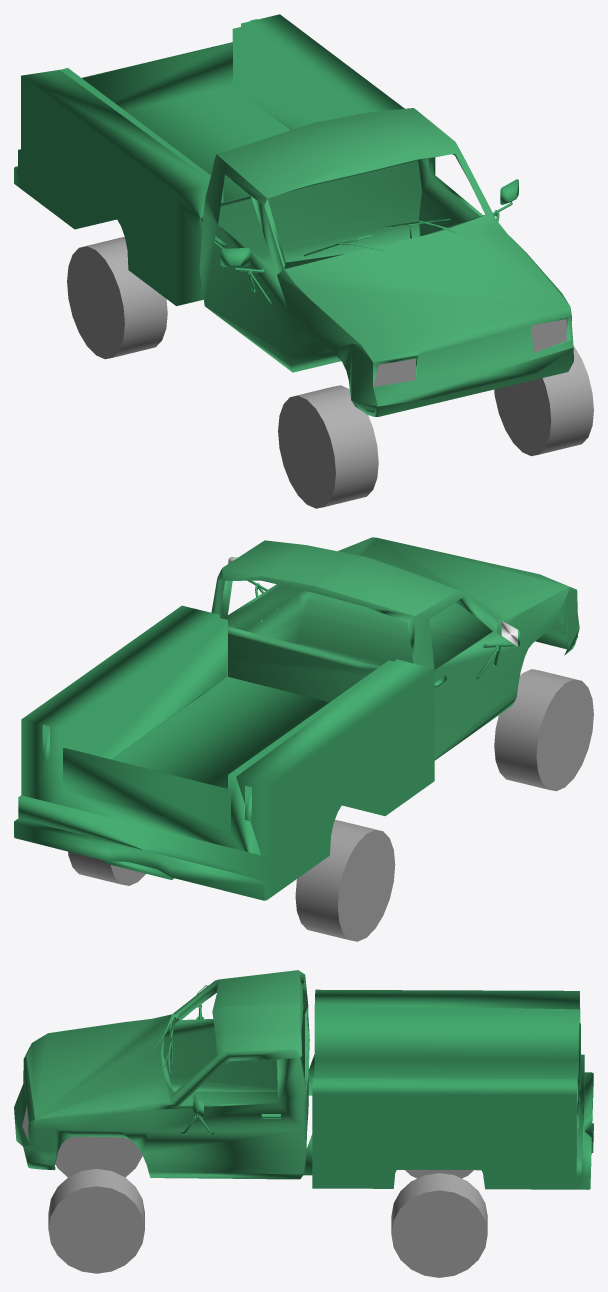
File: TrueCar.fbx
3 views of the same model, one above another, from view 1: azimuth 30°, elevation 25°; view 2: azimuth 150°, elevation 25°; view 3: azimuth 270°, elevation 25° (orthographic). The views are drawn at different scales.
Parts seen in each view (by area): view 1: polySurface6, polySurface7, pasted__pCylinder1 (×2), pasted__pasted__pCylinder1; view 2: polySurface7, polySurface6, pasted__pasted__pCylinder1, pasted__pCylinder1, pCylinder1; view 3: polySurface7, polySurface6, pCylinder1, pasted__pCylinder1, pasted__pasted__pCylinder1.
Boxes of the visible parts, box(x1,y1,x2,y2) form: polySurface6: box(199, 108, 573, 416); polySurface7: box(14, 14, 518, 305); pasted__pCylinder1 (×2): box(67, 237, 593, 456); pasted__pasted__pCylinder1: box(278, 385, 378, 508); polySurface7: box(14, 557, 519, 900); polySurface6: box(211, 537, 579, 760); pasted__pasted__pCylinder1: box(494, 669, 593, 791); pasted__pCylinder1: box(295, 820, 395, 941); pCylinder1: box(68, 851, 145, 885); polySurface7: box(153, 985, 593, 1189); polySurface6: box(14, 970, 309, 1179); pCylinder1: box(391, 1173, 487, 1277); pasted__pCylinder1: box(48, 1169, 144, 1273); pasted__pasted__pCylinder1: box(55, 1136, 142, 1177).
Bounding box in the file's own units: 5.75 × 4.84 × 11.71.
